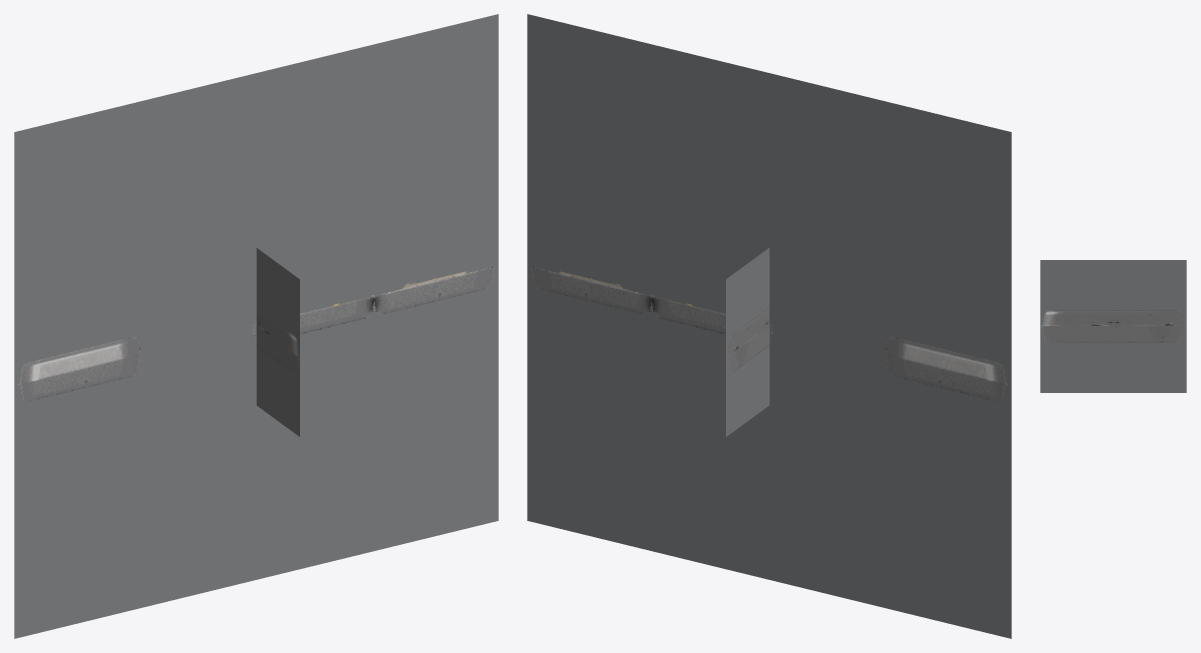
File: cigarette_case_v3_pbr_bb.glb
3 views of the same model, side by side, from view 1: azimuth 30°, elevation 25°; view 2: azimuth 150°, elevation 25°; view 3: azimuth 270°, elevation 25° (orthographic). The views are drawn at different scales.
Visible parts, largest first — view 1: cigarette_case_v3_pbr_bb; view 2: cigarette_case_v3_pbr_bb; view 3: cigarette_case_v3_pbr_bb.
Boxes of the visible parts, x1=… form: cigarette_case_v3_pbr_bb: x1=14, y1=14, x2=498, y2=638; cigarette_case_v3_pbr_bb: x1=527, y1=14, x2=1011, y2=638; cigarette_case_v3_pbr_bb: x1=1040, y1=260, x2=1186, y2=392.
Bounding box in the file's own units: 0.3298 × 0.3298 × 0.1027.
1 material, 1 textured.
